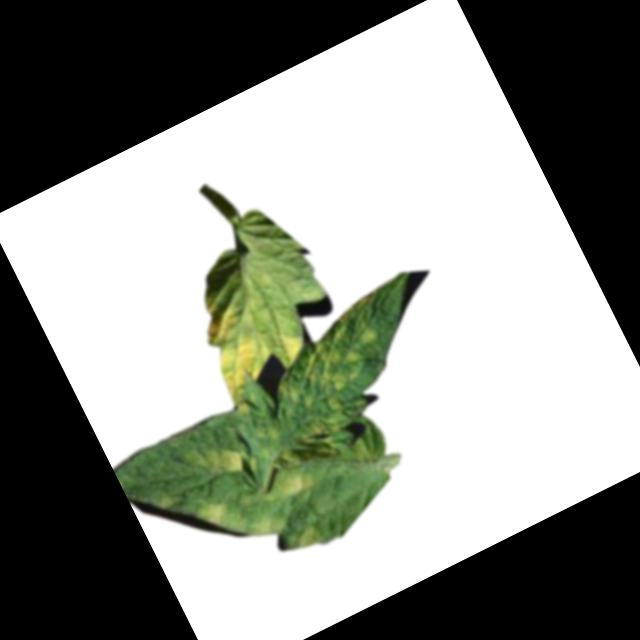Leaf_Mold: (249, 292, 417, 449), (181, 268, 315, 405), (188, 431, 251, 492), (193, 489, 247, 546), (265, 463, 317, 507), (280, 515, 328, 559), (232, 397, 252, 415)
